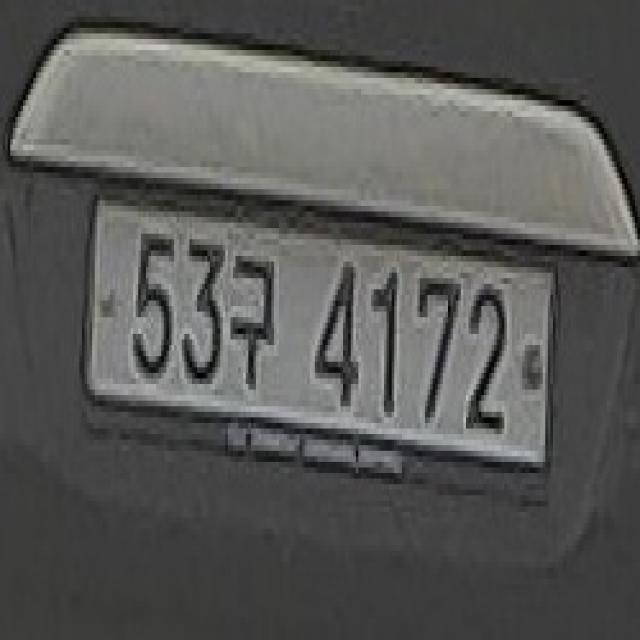1: (364, 262, 409, 418)
2: (466, 267, 522, 445)
3: (177, 222, 220, 390)
4: (315, 256, 363, 406)
5: (133, 211, 177, 384)
7: (412, 256, 466, 429)
gu: (228, 234, 279, 400)
license_plate: (87, 178, 561, 512)
